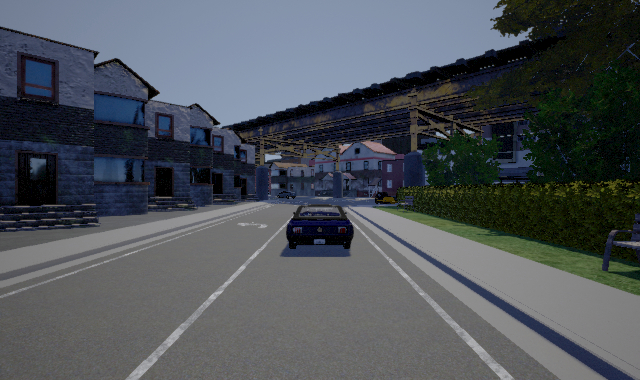vehicle: (286, 204, 354, 249), (277, 191, 297, 199)
